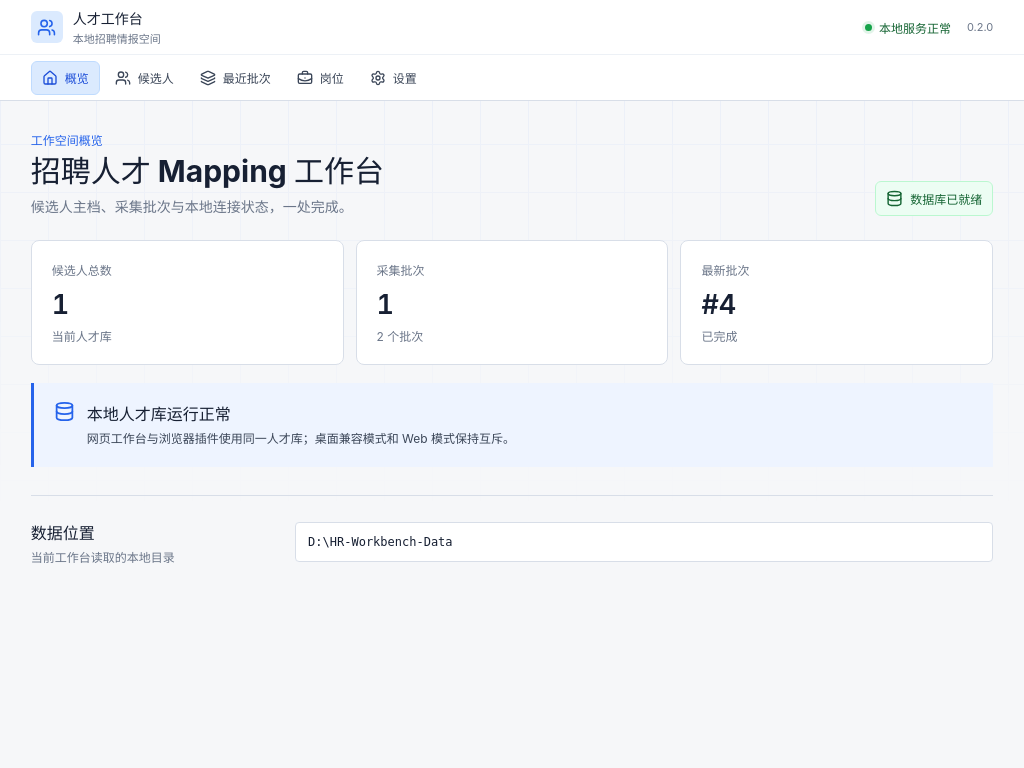
Scenario: workbench candidate intake views › opens an older candidate batch directly without requiring it on the first page
Click the button "候选人" at (144, 78), box [104, 60, 185, 94]
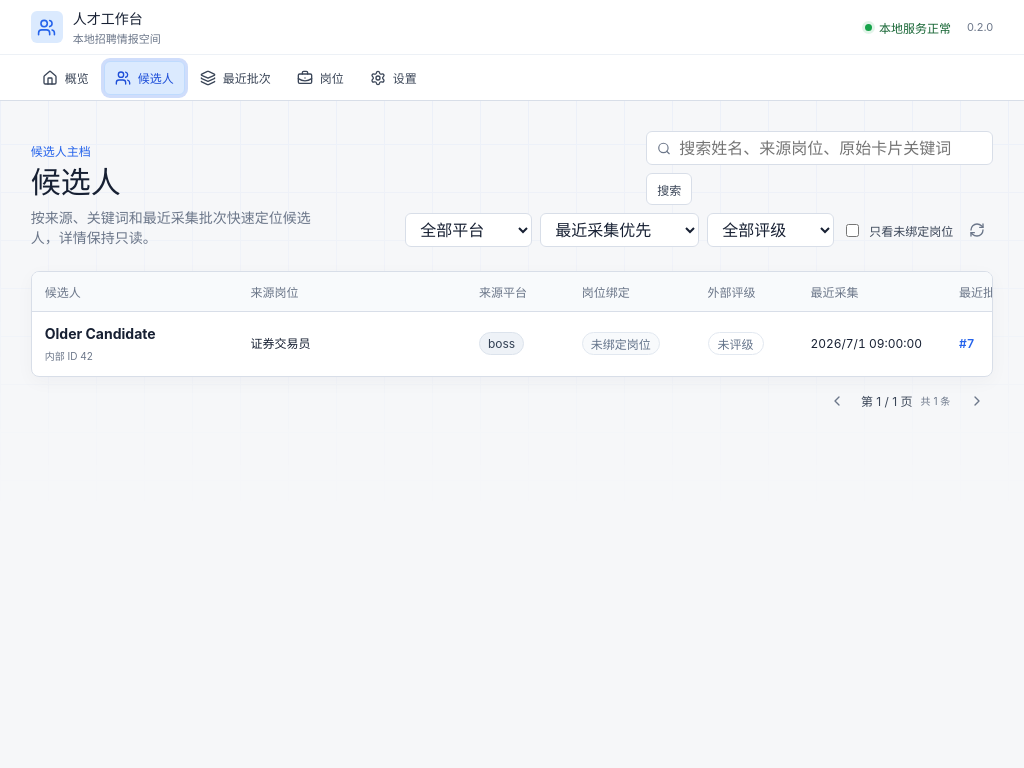
Click the button "#7" at (967, 344), box [959, 333, 974, 354]
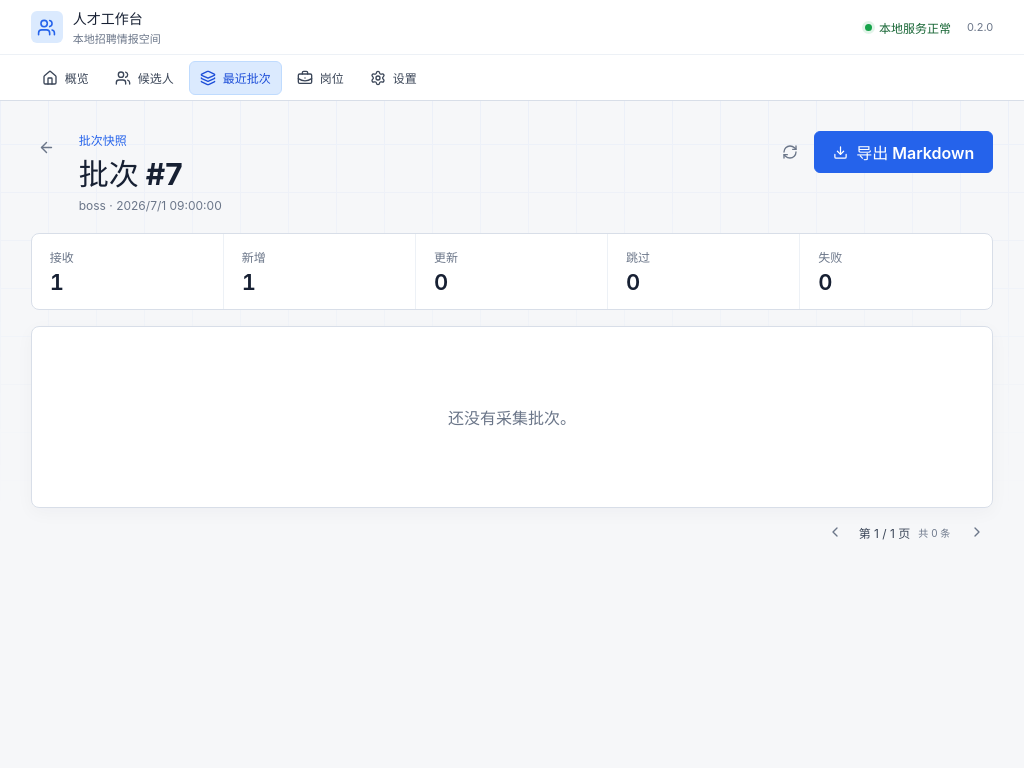
Expected: the heading "批次 #7" is shown, [79, 156, 183, 192]
